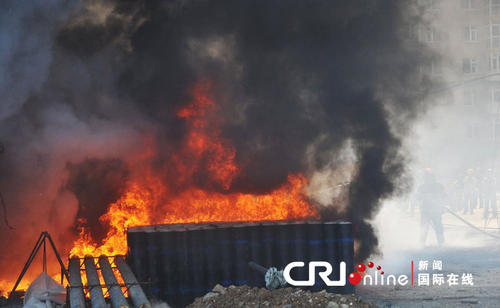fire: (25, 166, 322, 279)
smoke: (74, 8, 433, 140)
